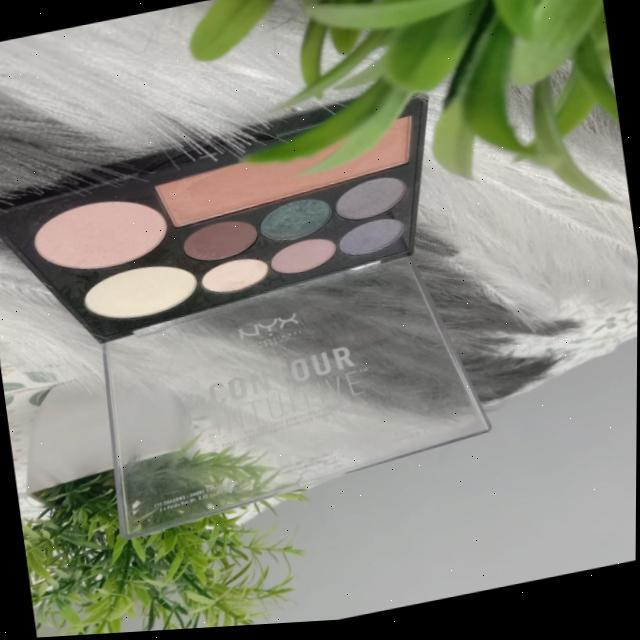eye shade: (175, 174, 419, 317), (148, 116, 418, 238), (76, 251, 214, 351), (18, 191, 173, 280)
